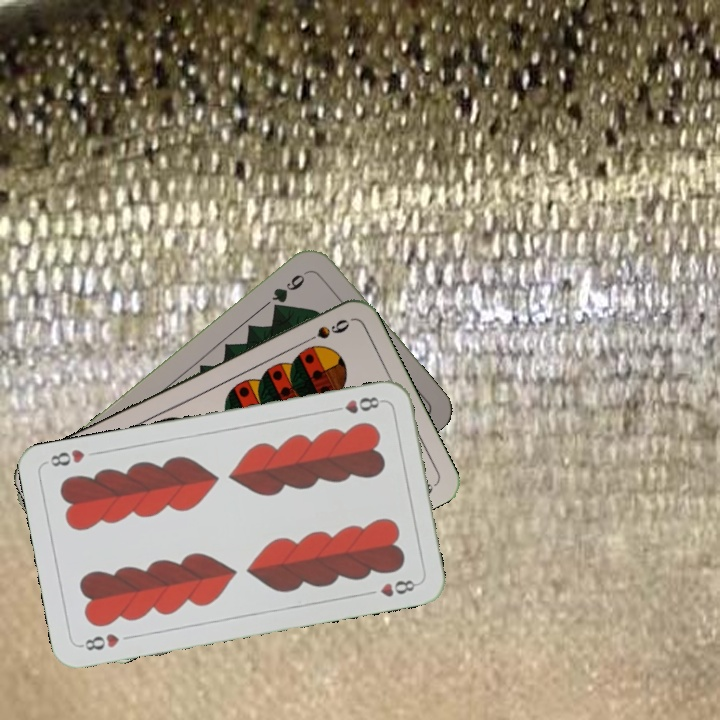G9: (268, 266, 312, 314)
H8: (327, 393, 386, 416), (76, 629, 122, 653)
S9: (297, 314, 352, 349)
